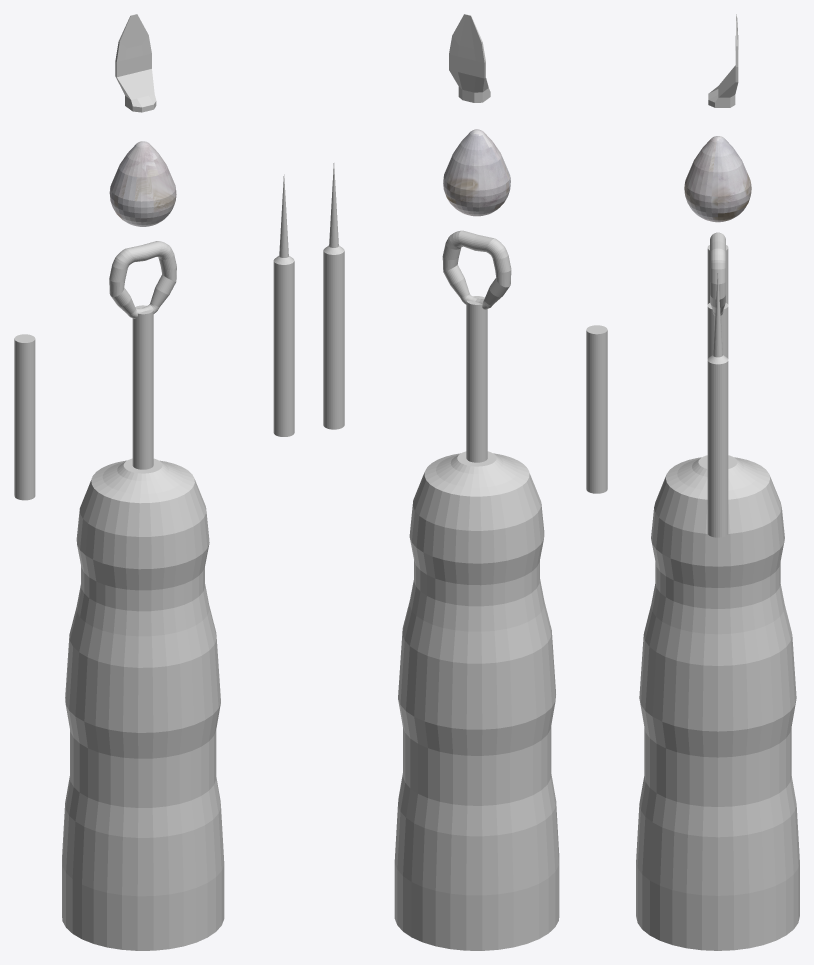
Rendered from tools.fbx.
3 renders of one model, left to right at view 1: azimuth 30°, elevation 25°; view 2: azimuth 150°, elevation 25°; view 3: azimuth 270°, elevation 25°, orthographic.
Parts seen in each view (by area): view 1: Cylinder, Cylinder.003, Sphere, Cylinder.004, Cylinder.001, Cube, Cylinder.002; view 2: Cylinder, Cylinder.003, Sphere, Cylinder.004, Cylinder.001, Cylinder.002, Cube; view 3: Cylinder, Cylinder.003, Sphere, Cylinder.002, Cube, Cylinder.001.
Boxes of the visible parts, <box> form: Cylinder: <box>62,458,224,950</box>; Cylinder.003: <box>273,174,294,436</box>; Sphere: <box>109,141,176,226</box>; Cylinder.004: <box>14,334,35,500</box>; Cylinder.001: <box>132,305,153,469</box>; Cube: <box>115,14,156,112</box>; Cylinder.002: <box>109,241,176,318</box>; Cylinder: <box>394,451,559,950</box>; Cylinder.003: <box>323,163,344,429</box>; Sphere: <box>443,129,510,216</box>; Cylinder.004: <box>586,325,607,493</box>; Cylinder.001: <box>466,296,487,462</box>; Cylinder.002: <box>442,230,511,309</box>; Cube: <box>449,14,490,102</box>; Cylinder: <box>636,455,799,950</box>; Cylinder.003: <box>707,273,728,537</box>; Sphere: <box>684,136,751,222</box>; Cylinder.002: <box>710,232,725,315</box>; Cube: <box>708,14,738,107</box>; Cylinder.001: <box>707,303,728,358</box>.
Bounding box in the file's own units: 393 × 1238 × 200.
